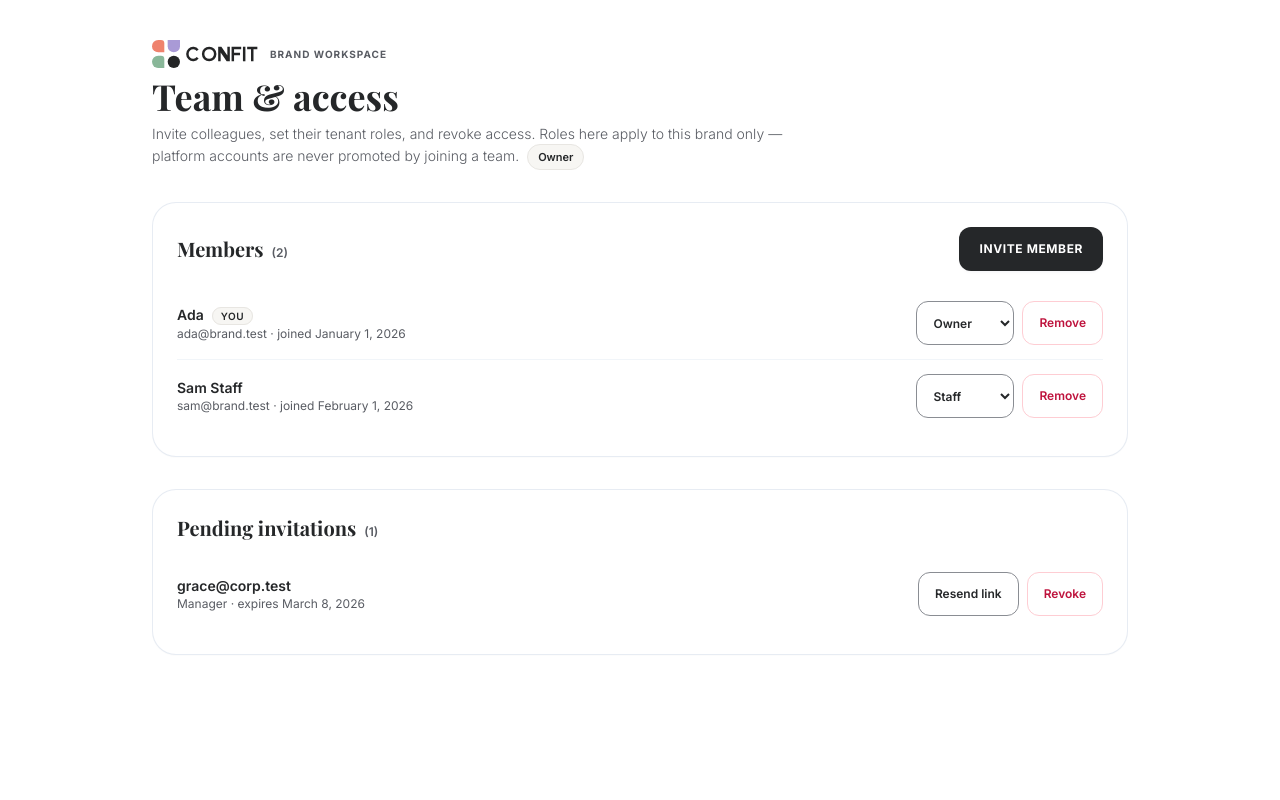
Test: BrandTeamView — confirm dialog honesty › a refusal closes the dialog and leaves the visible inline reason
What coordinates should you click on to do the following:
click the button "Remove" in the row of "You"
I would click on:
 (1063, 323)
Its box is top-left (1022, 301), bottom-right (1103, 345).
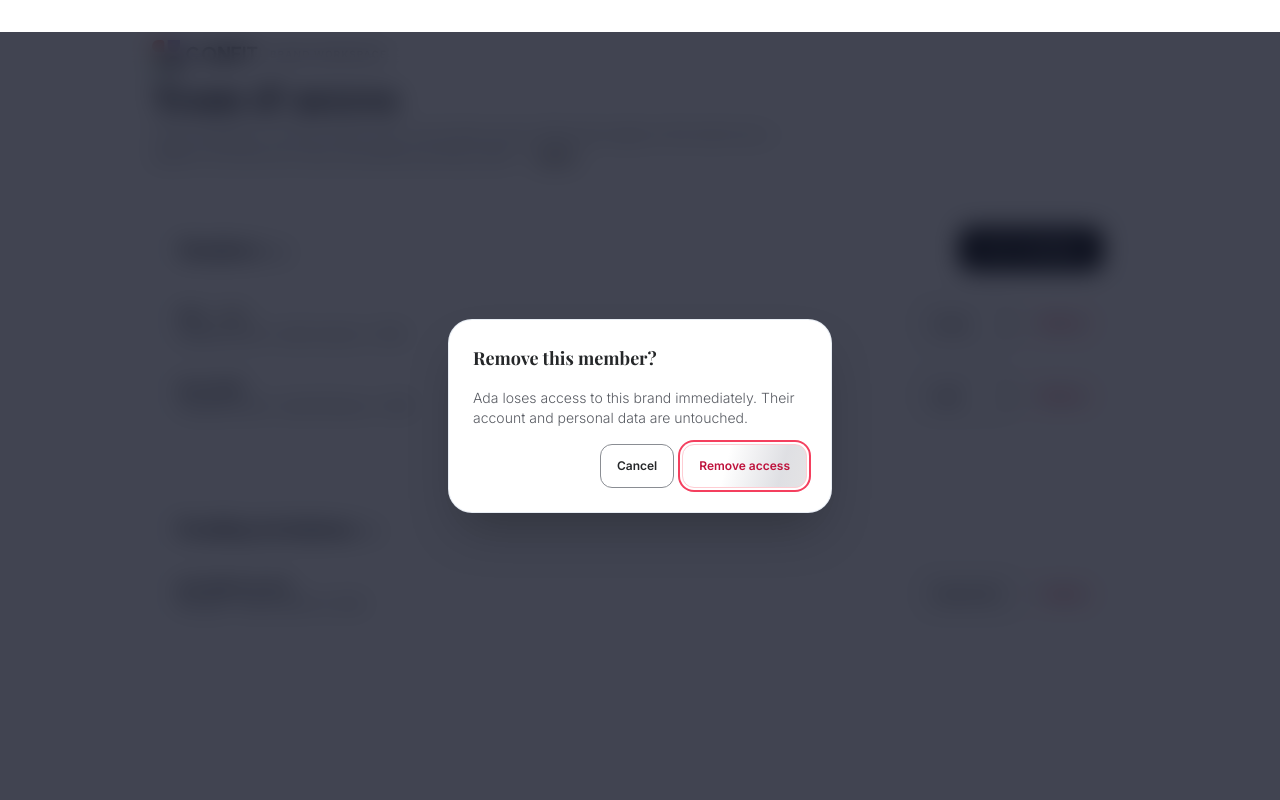
What coordinates should you click on to do the following:
click the button "Remove access"
I would click on:
 (745, 466)
Its box is top-left (682, 444), bottom-right (807, 488).
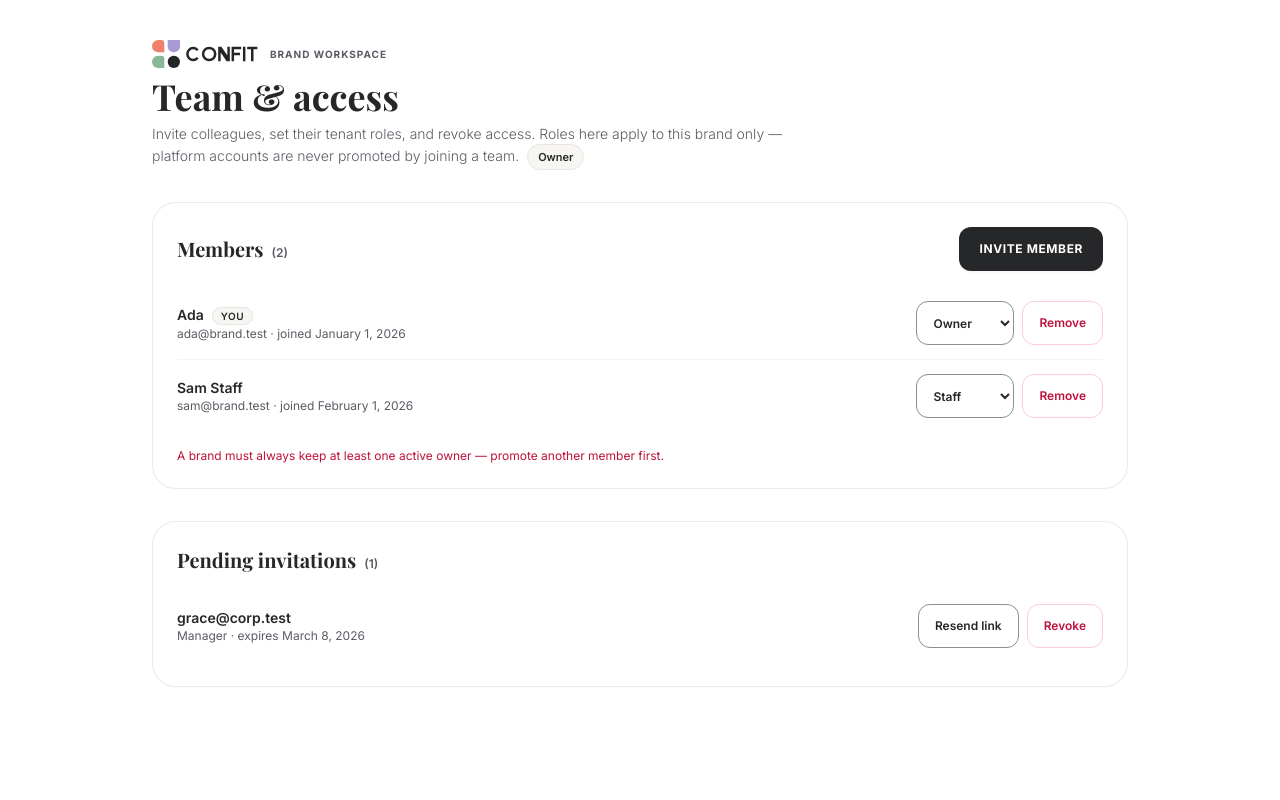
Check: the text "at least one active owner" is shown, box top-left (177, 448), bottom-right (664, 463)
Check: the dialog is gone
